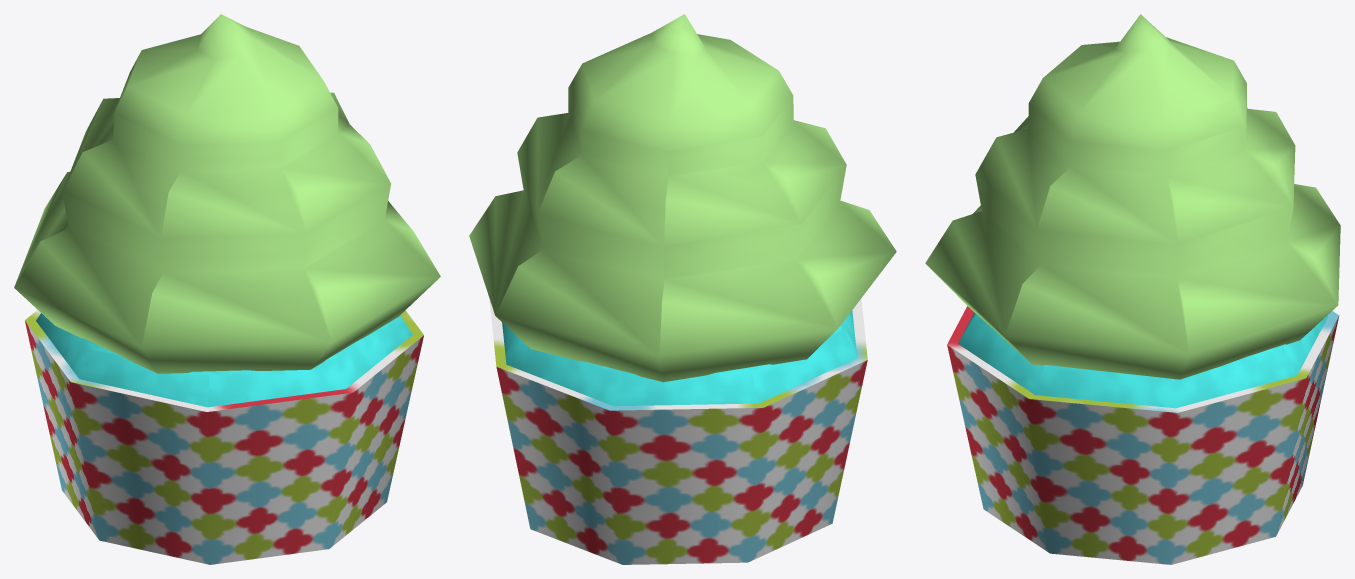
The model's file is Cupcake_A_25.FBX.
The picture shows the model from 3 angles, left to right: view 1: azimuth 30°, elevation 25°; view 2: azimuth 150°, elevation 25°; view 3: azimuth 270°, elevation 25°; orthographic projection.
Visible parts, largest first — view 1: Cupcake; view 2: Cupcake; view 3: Cupcake.
Part boxes in pixels (box(x1,y1,x2,y2)): Cupcake: box(14, 14, 440, 564); Cupcake: box(469, 14, 896, 564); Cupcake: box(925, 14, 1340, 564).
Bounding box in the file's own units: 34.42 × 43.01 × 33.65.
